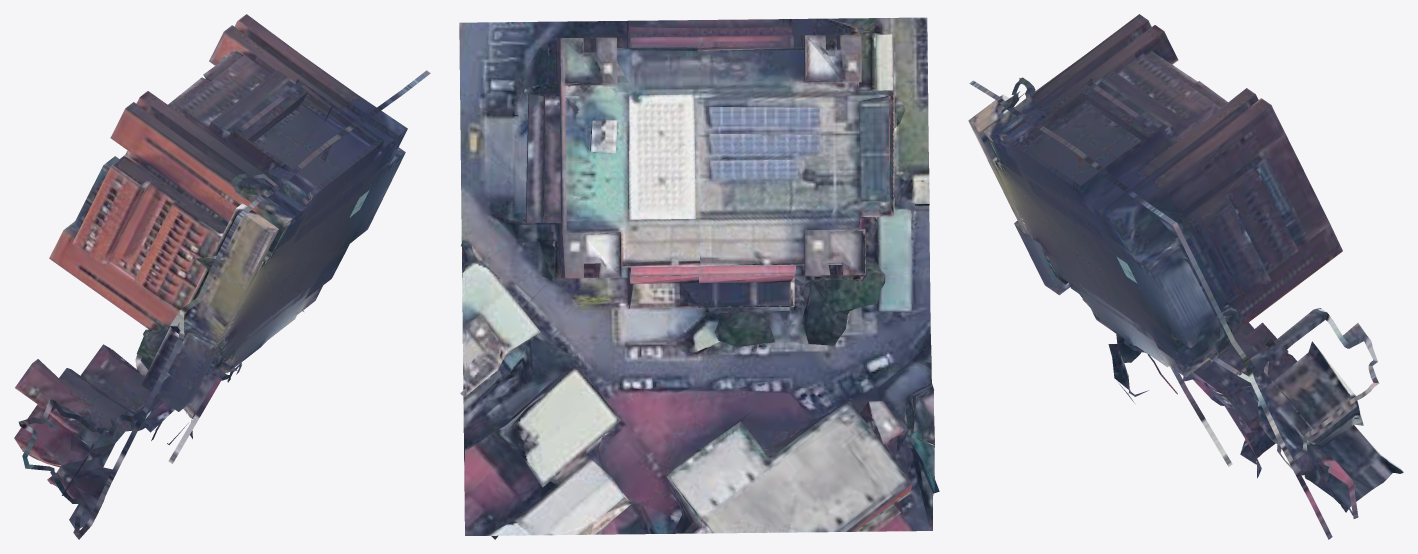
The picture shows the model from 3 angles, left to right: view 1: azimuth 30°, elevation 25°; view 2: azimuth 150°, elevation 25°; view 3: azimuth 270°, elevation 25°; orthographic projection. The views are drawn at different scales.
Size of the model in its own units: 82.44 by 80.07 by 76.89.
Materials: 1 (1 with a texture image).
